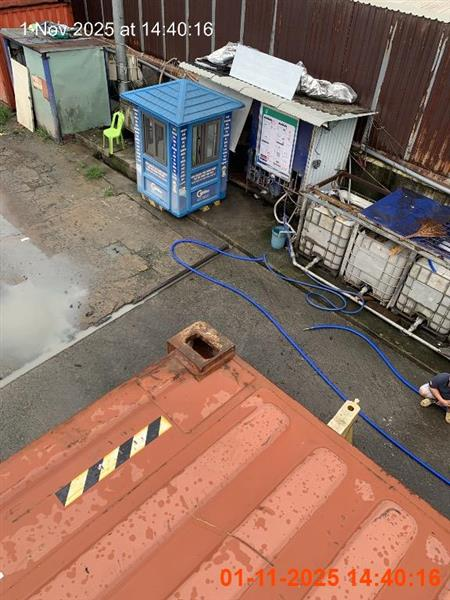crack: (0, 319, 449, 599), (418, 372, 449, 423), (102, 111, 125, 154)
